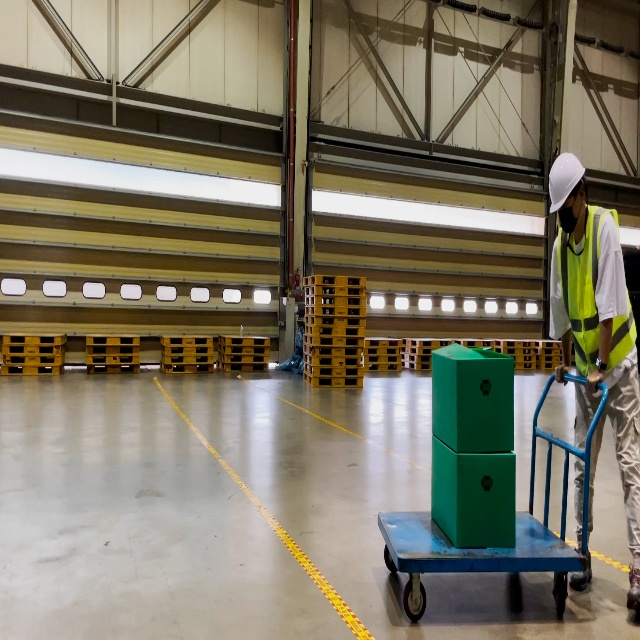Box: (431, 435, 516, 548), (431, 343, 514, 452)
Worker: (549, 152, 640, 609)
